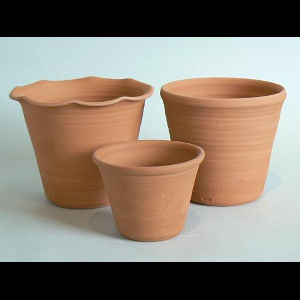flowerpot: (10, 75, 154, 213), (158, 76, 288, 209), (92, 139, 206, 243)
